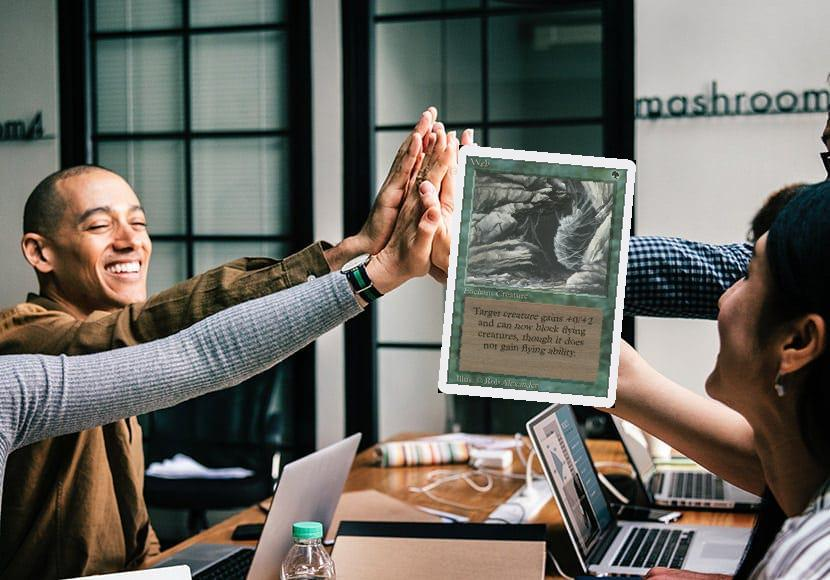mtgCard: (437, 144, 637, 409)
